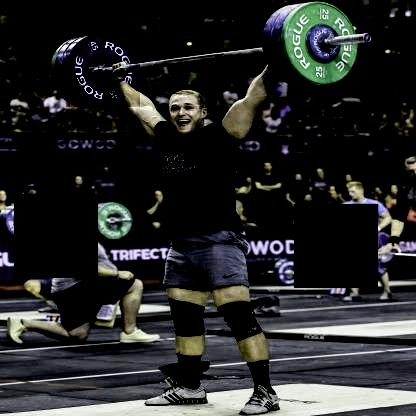barbell: (284, 2, 360, 85), (67, 35, 141, 108)
